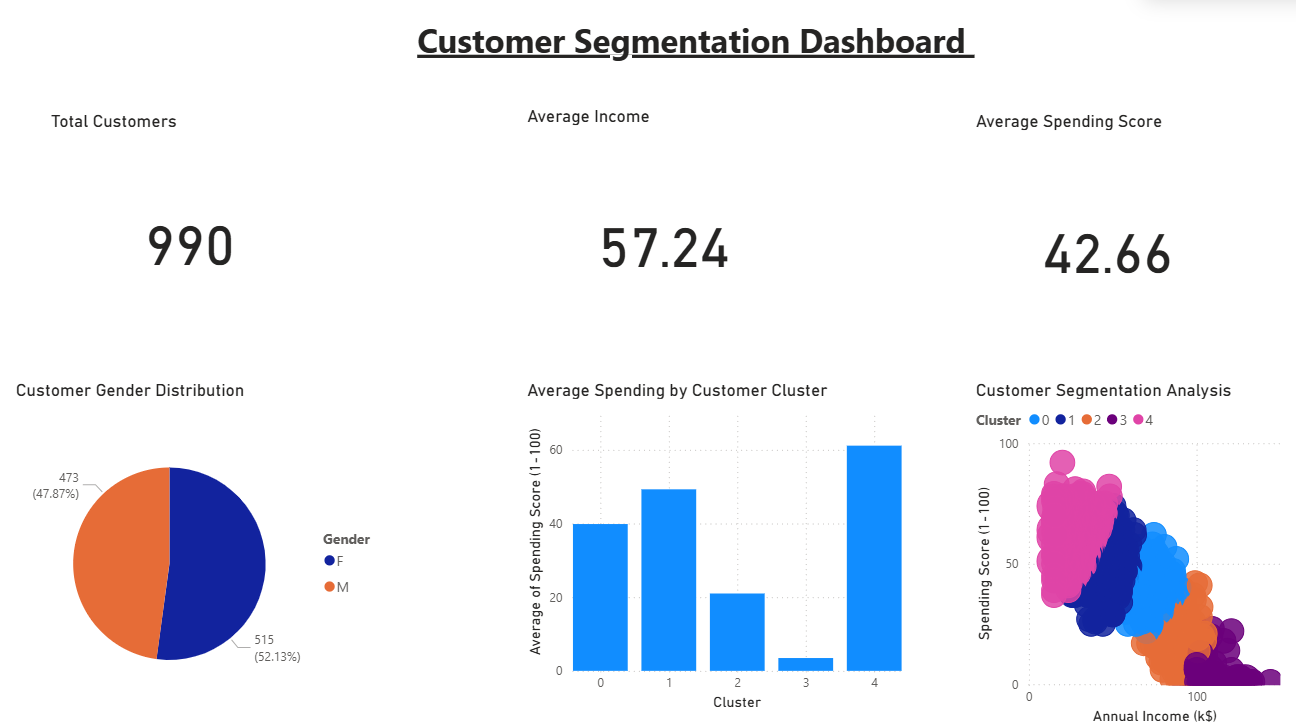

This screenshot's page, from the dashboard's own definition file:
{"tool":"powerbi","page":{"name":"Page 1","canvas":[1280,720],"ordinal":0},"visuals":[{"type":"card","title":"Total Customers","fields":{"Values":["CountNonNull(customer_segments.CustomerID)"]},"box":[54.2,115.5,282.2,232.3],"z":0},{"type":"card","title":"Average Income","fields":{"Values":["Avg(customer_segments.Annual Income (k$))"]},"box":[520.3,109.8,276.5,245.2],"z":1},{"type":"card","title":"Average Spending Score","fields":{"Values":["Avg(customer_segments.Spending Score (1-100))"]},"box":[959.3,115.5,268,248],"z":2},{"type":"pieChart","title":"Customer Gender Distribution","fields":{"Category":["customer_segments.Gender"],"Y":["CountNonNull(customer_segments.CustomerID)"]},"box":[20,377.7,376.3,342.1],"z":3},{"type":"clusteredColumnChart","title":"Average Spending by Customer Cluster","fields":{"Category":["customer_segments.Cluster"],"Y":["Avg(customer_segments.Spending Score (1-100))"]},"box":[520.3,377.7,376.3,329.3],"z":4},{"type":"scatterChart","title":"Customer Segmentation Analysis","fields":{"X":["customer_segments.Annual Income (k$)"],"Y":["customer_segments.Spending Score (1-100)"],"Series":["customer_segments.Cluster"],"Size":["CountNonNull(customer_segments.CustomerID)"]},"box":[959.3,377.7,317.9,342.1],"z":5},{"type":"textbox","box":[376.3,20,664.2,79.8],"z":6}]}

Visuals, with their boxes in screenshot pixels (x1, y1, x2, y2), scaled from the page's 1280x720 canvas onto the 1296x727 screenshot:
"Total Customers" card: 55, 117, 341, 351
"Average Income" card: 527, 111, 807, 358
"Average Spending Score" card: 971, 117, 1243, 367
"Customer Gender Distribution" pieChart: 20, 381, 401, 726
"Average Spending by Customer Cluster" clusteredColumnChart: 527, 381, 908, 714
"Customer Segmentation Analysis" scatterChart: 971, 381, 1293, 726
textbox: 381, 20, 1054, 101
